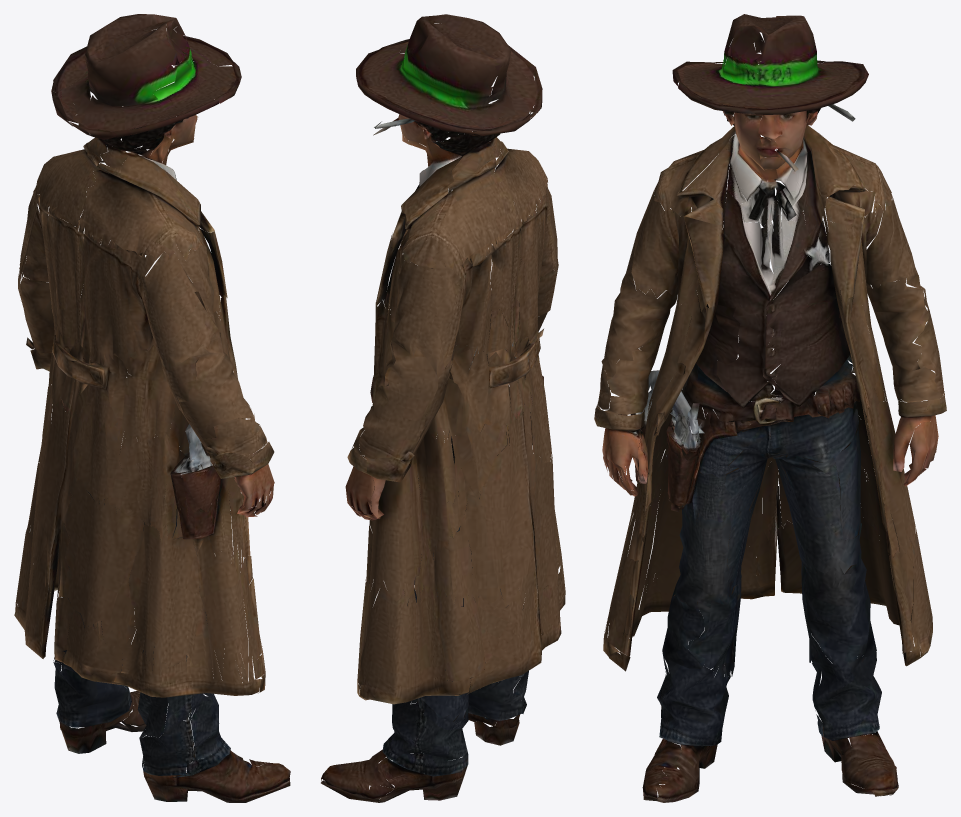
File: sheriff_jake.glb
3 views of the same model, side by side, from view 1: azimuth 30°, elevation 25°; view 2: azimuth 150°, elevation 25°; view 3: azimuth 270°, elevation 25° (orthographic).
Visible parts, largest first — view 1: tripo_node_8b25fb20-aa84-4a9a-a0cc-7cf422466273; view 2: tripo_node_8b25fb20-aa84-4a9a-a0cc-7cf422466273; view 3: tripo_node_8b25fb20-aa84-4a9a-a0cc-7cf422466273.
Boxes of the visible parts, box(x1,y1,x2,y2) form: tripo_node_8b25fb20-aa84-4a9a-a0cc-7cf422466273: box(14, 14, 290, 802); tripo_node_8b25fb20-aa84-4a9a-a0cc-7cf422466273: box(321, 14, 565, 802); tripo_node_8b25fb20-aa84-4a9a-a0cc-7cf422466273: box(594, 14, 946, 802).
Bounding box in the file's own units: 0.2586 × 0.9796 × 0.4188.
1 material, 1 textured.
